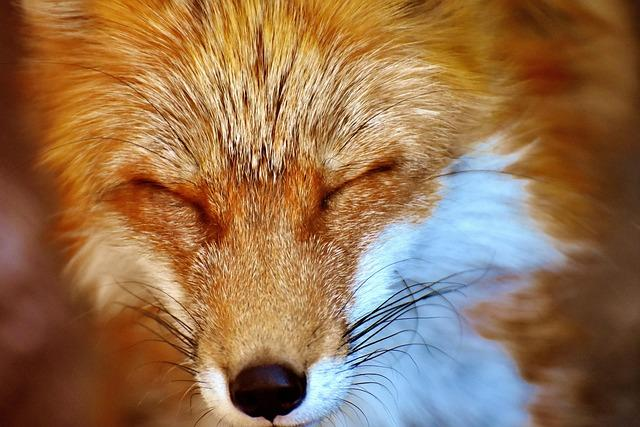Non_Gorille: (78, 5, 540, 427)
